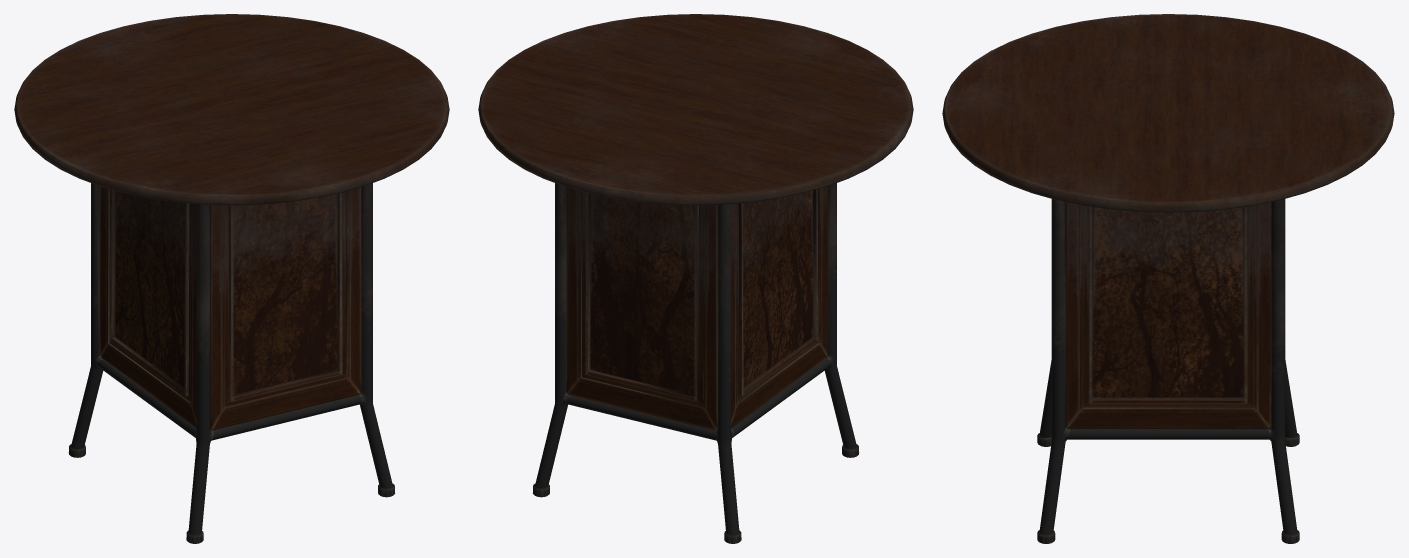
File: round_wooden_table_02.glb
3 renders of one model, left to right at view 1: azimuth 30°, elevation 25°; view 2: azimuth 150°, elevation 25°; view 3: azimuth 270°, elevation 25°, orthographic. The views are drawn at different scales.
Parts seen in each view (by area): view 1: round_wooden_table_02; view 2: round_wooden_table_02; view 3: round_wooden_table_02.
Part boxes in pixels (bbox=[...]): round_wooden_table_02: bbox=[14, 14, 449, 543]; round_wooden_table_02: bbox=[478, 14, 913, 543]; round_wooden_table_02: bbox=[942, 14, 1394, 543].
Size of the model in its own units: 0.7962 by 0.746 by 0.7962.
Materials: 1 (1 with a texture image).
